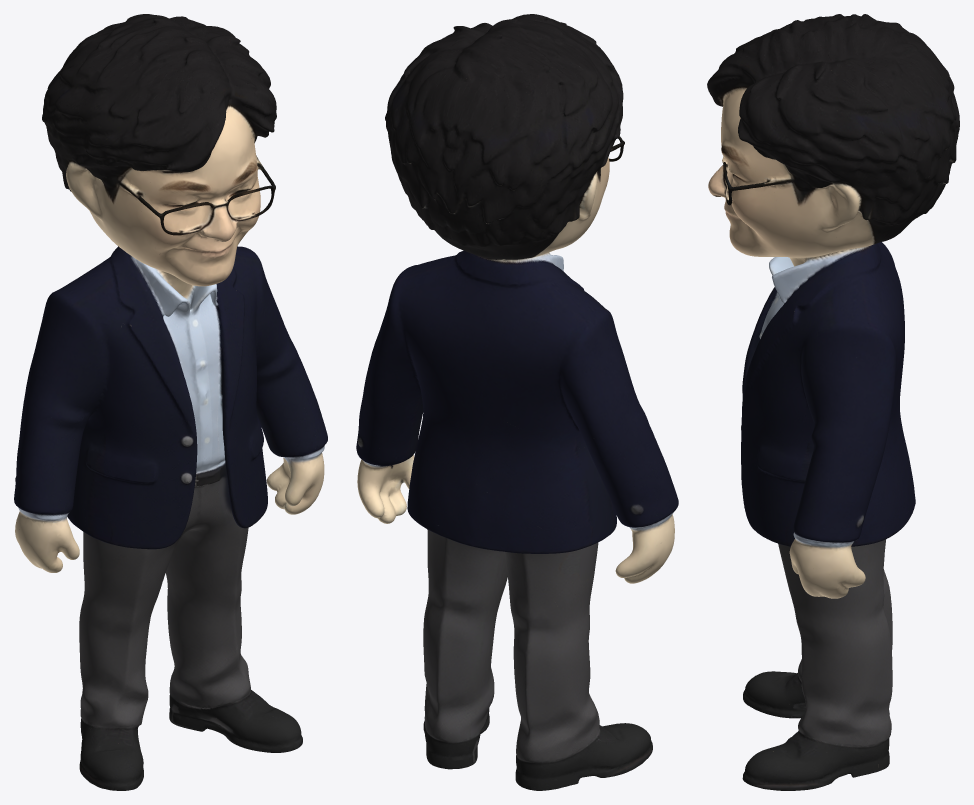
The model's file is vice-principal-meshy-source.glb.
3 views of the same model, side by side, from view 1: azimuth 30°, elevation 25°; view 2: azimuth 150°, elevation 25°; view 3: azimuth 270°, elevation 25° (orthographic). The views are drawn at different scales.
Bounding box in the file's own units: 0.8451 × 1.9 × 0.6047.
1 material, 1 textured.
